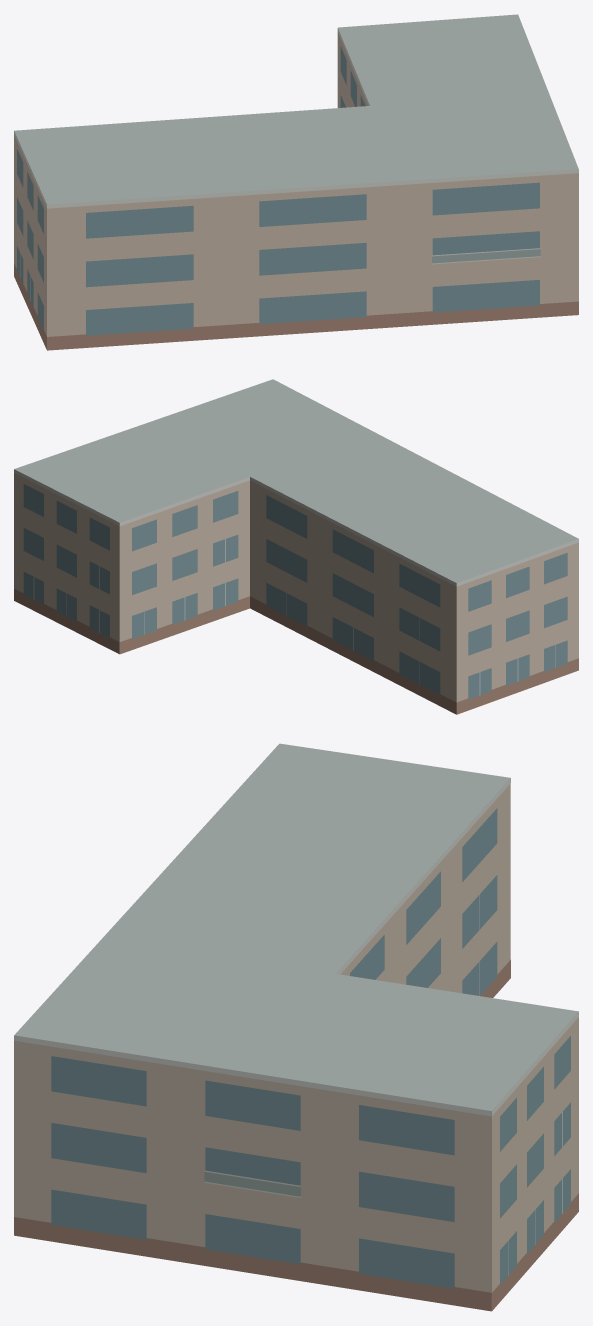
The model's file is survey-upis-32547170.glb.
The picture shows the model from 3 angles, top to bottom: view 1: azimuth 30°, elevation 25°; view 2: azimuth 150°, elevation 25°; view 3: azimuth 270°, elevation 25°; orthographic projection. The views are drawn at different scales.
Visible parts, largest first — view 1: survey-upis-32547170.tmp; view 2: survey-upis-32547170.tmp; view 3: survey-upis-32547170.tmp.
Part boxes in pixels (x1=…): survey-upis-32547170.tmp: x1=14, y1=14, x2=578, y2=350; survey-upis-32547170.tmp: x1=14, y1=379, x2=578, y2=714; survey-upis-32547170.tmp: x1=14, y1=743, x2=578, y2=1311.
Size of the model in its own units: 36.04 by 9.15 by 23.4.
